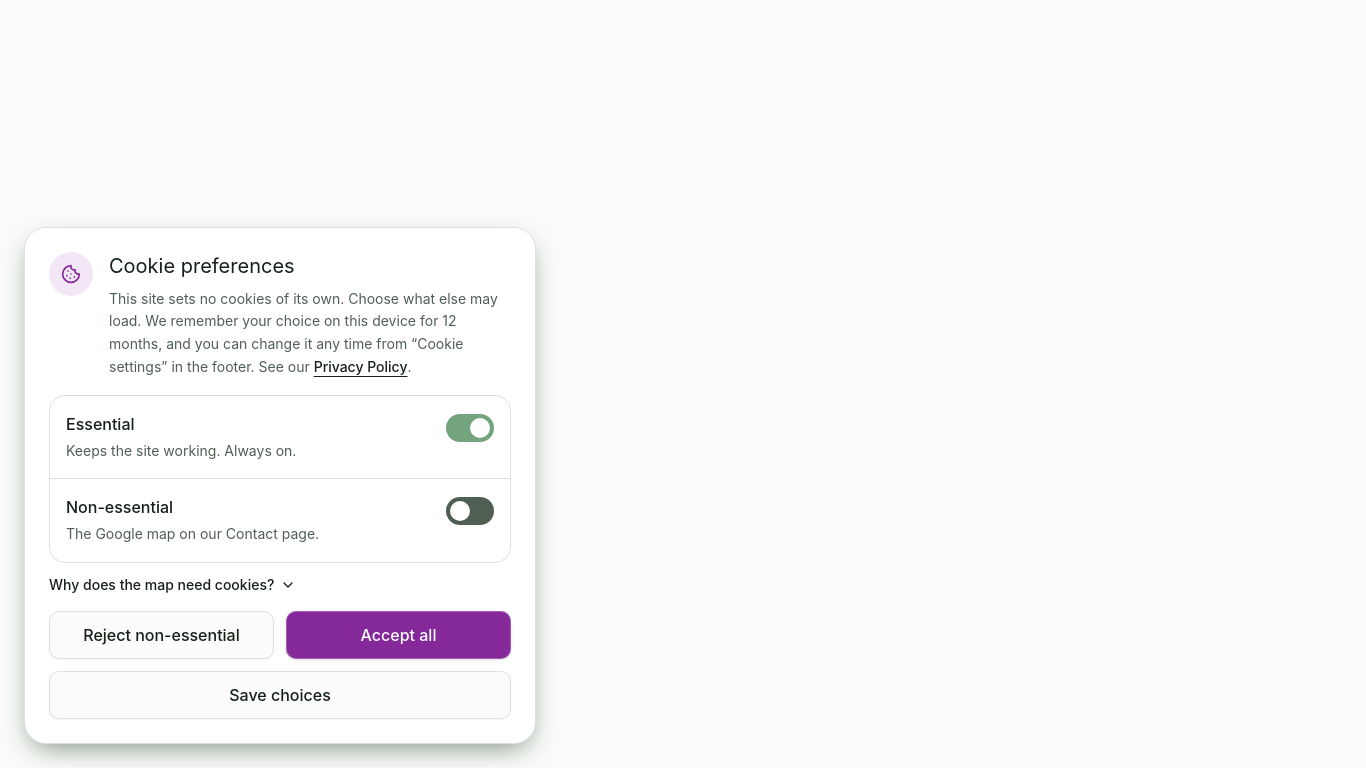
CookieBanner › opens and closes the reasoning from its own button
Click the button "Why does the map need cookies?".
click(173, 585)  # box [49, 575, 296, 595]
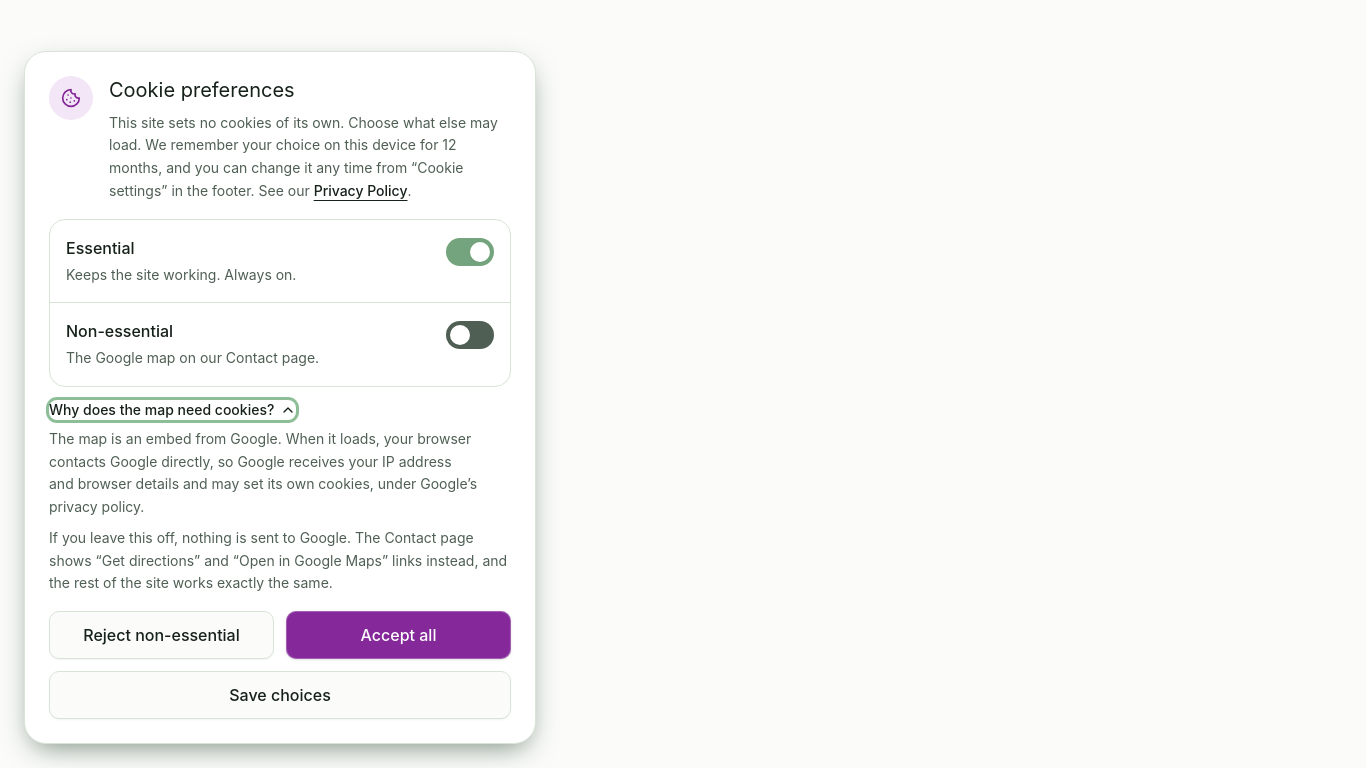
Result: the text "Google receives your IP address" is shown at [49, 430, 477, 515]
Click the button "Why does the map need cookies?".
click(173, 410)  # box [49, 400, 296, 420]
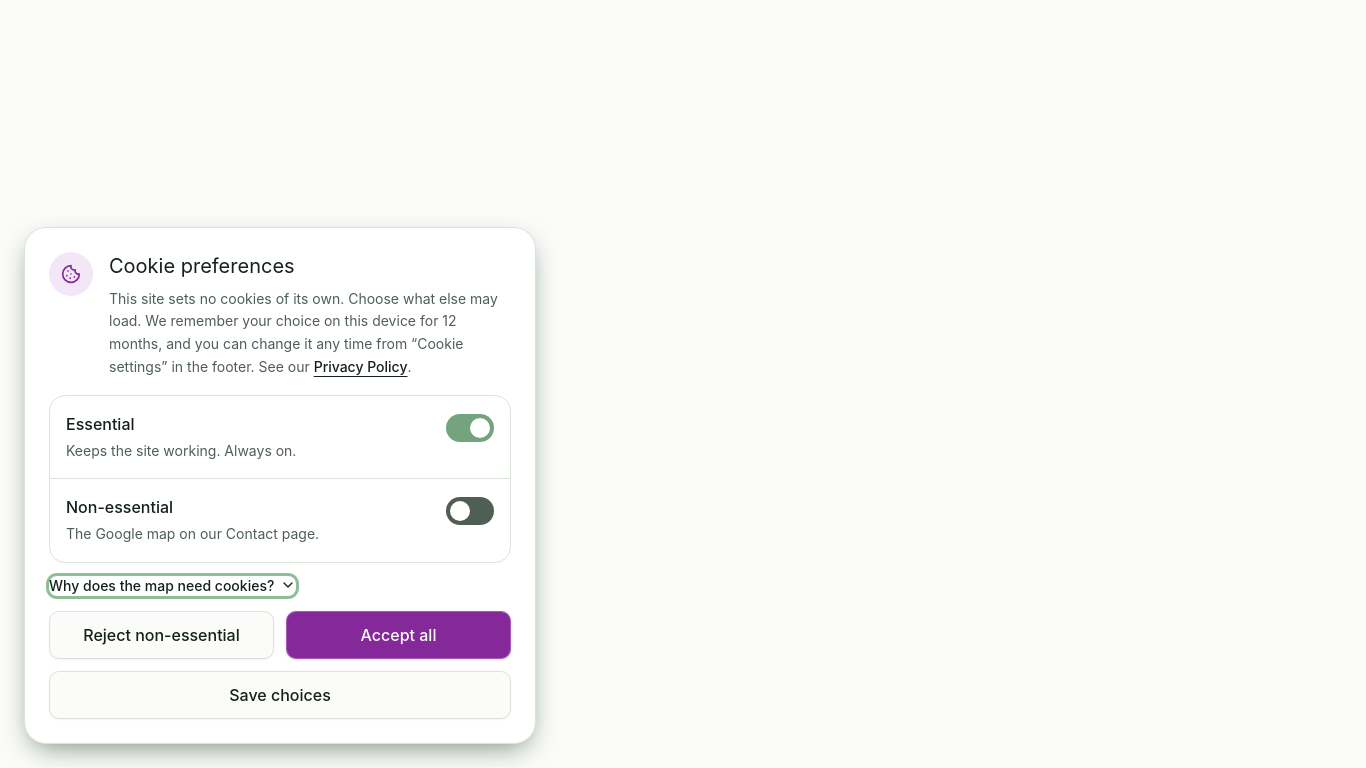
Result: the text "Google receives your IP address" is gone
